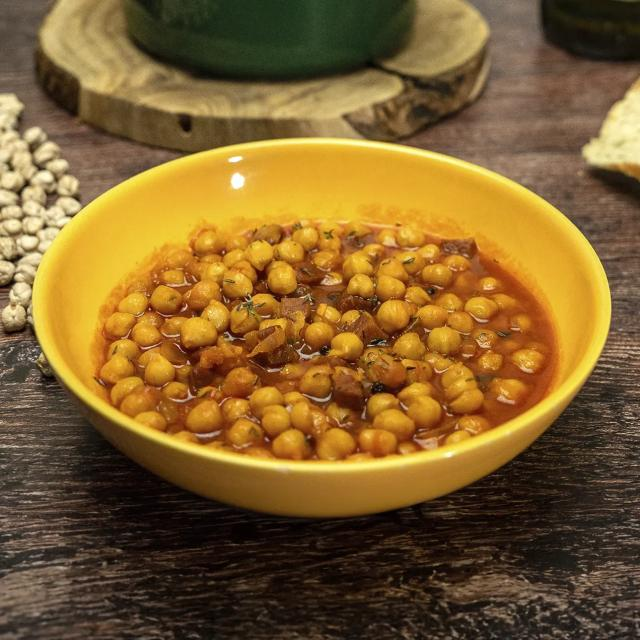garbanzos: (91, 195, 552, 472)
